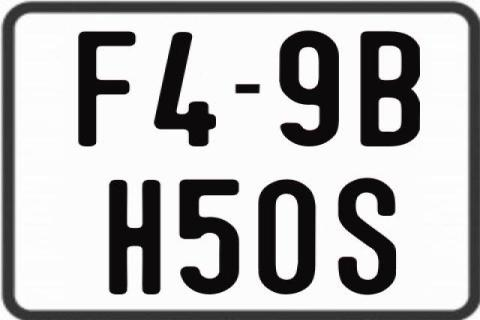0: (177, 180, 242, 298), (152, 32, 218, 147), (278, 30, 343, 146), (257, 177, 318, 297)
B: (360, 30, 423, 146)
F: (76, 32, 137, 150)
H: (108, 180, 163, 294)
S: (338, 177, 402, 297)
